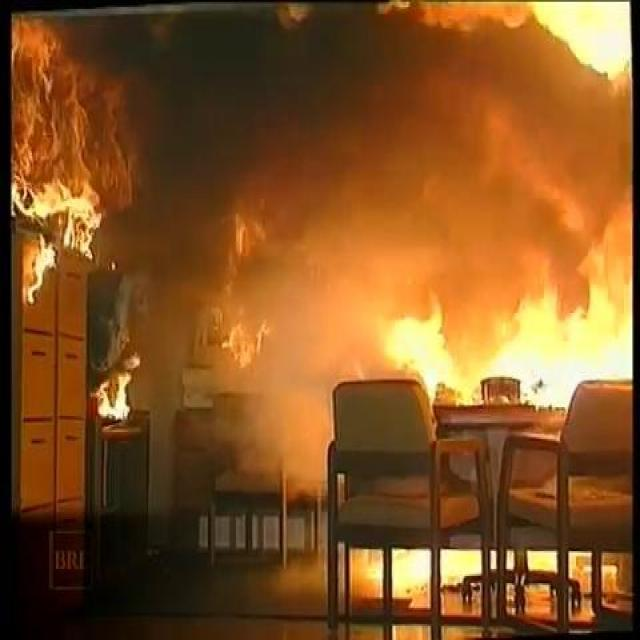Fire: (378, 162, 640, 392), (10, 14, 133, 306), (199, 208, 285, 376), (102, 350, 160, 436)
